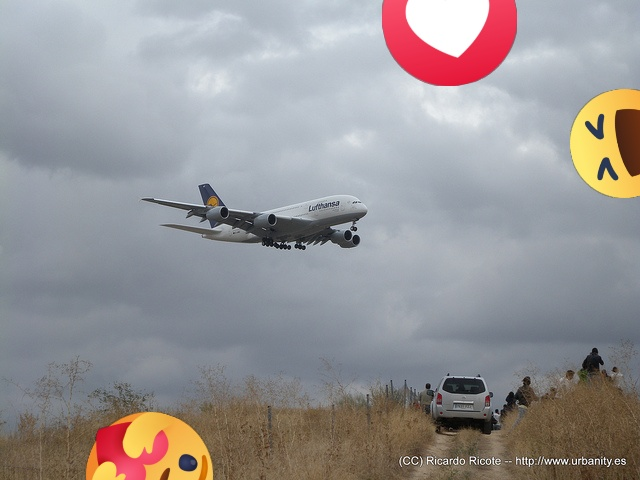care: (86, 412, 213, 480)
haha: (570, 89, 640, 198)
love: (382, 0, 517, 86)
